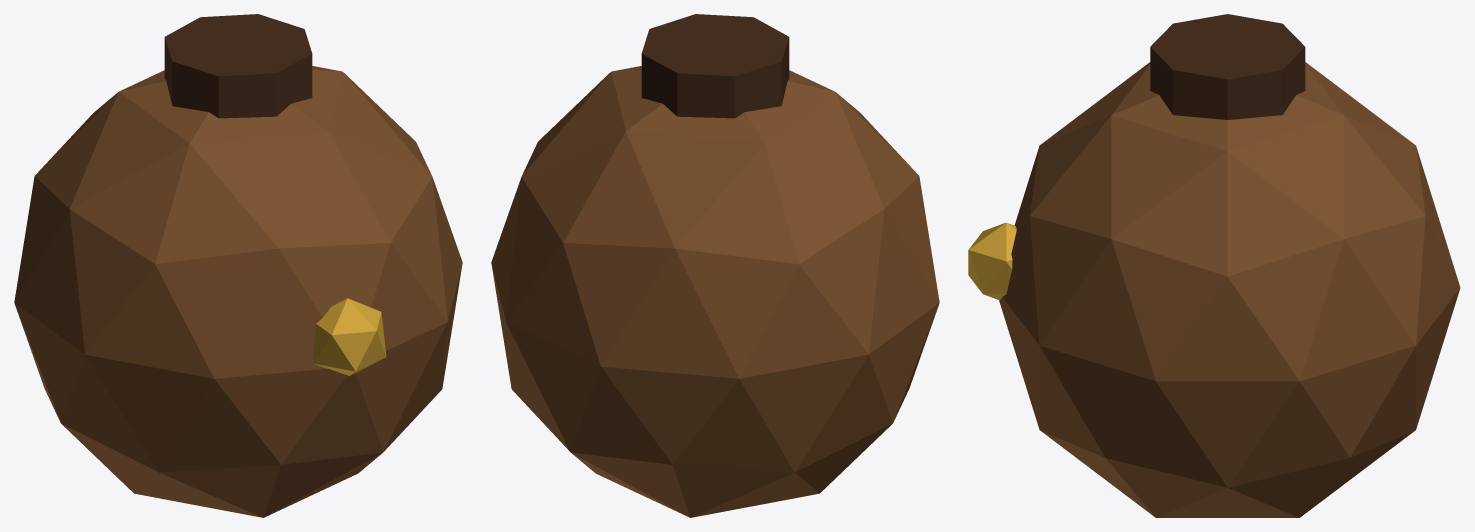
The model's file is SM_GZ_item_bag.fbx.
The picture shows the model from 3 angles, left to right: view 1: azimuth 30°, elevation 25°; view 2: azimuth 150°, elevation 25°; view 3: azimuth 270°, elevation 25°; orthographic projection.
Parts seen in each view (by area): view 1: SM_GZ_item_bag; view 2: SM_GZ_item_bag; view 3: SM_GZ_item_bag.
Boxes of the visible parts, box(x1,y1,x2,y2) form: SM_GZ_item_bag: box(14, 14, 462, 517); SM_GZ_item_bag: box(491, 14, 939, 517); SM_GZ_item_bag: box(968, 14, 1460, 517).
Size of the model in its own units: 79.89 by 92.1 by 88.81.
